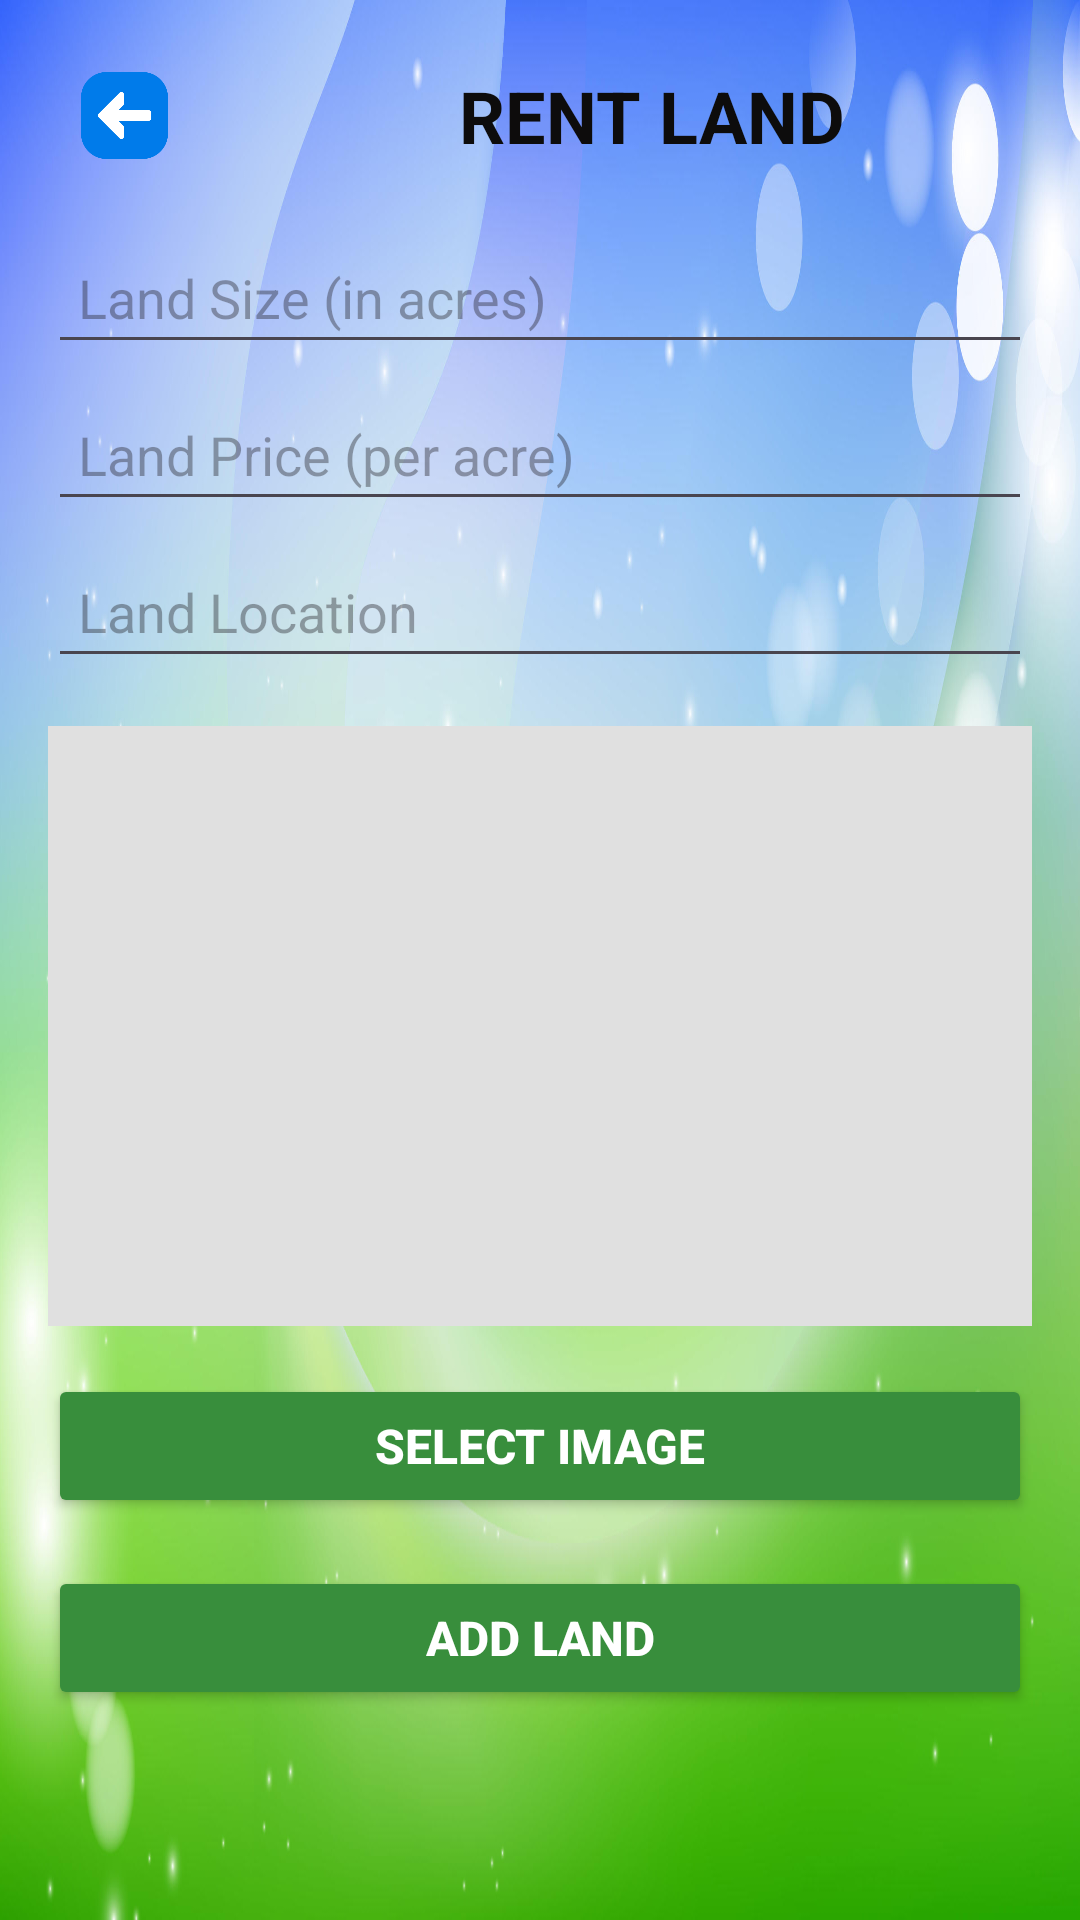

Point at icon controls on the screen. Image size 1080*1920, points as (x=x, y=y).
Back: (x=124, y=115)
